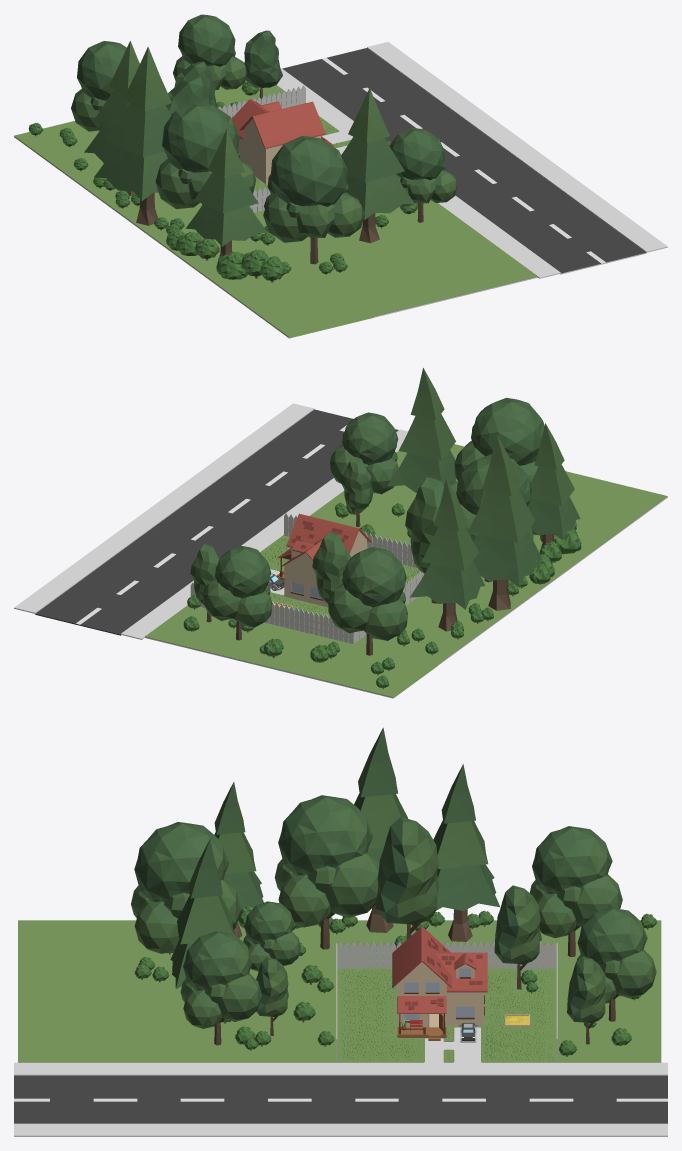
Rendered from house8.glb.
3 views of the same model, one above another, from view 1: azimuth 30°, elevation 25°; view 2: azimuth 150°, elevation 25°; view 3: azimuth 270°, elevation 25° (orthographic). The views are drawn at different scales.
Parts seen in each view (by area): view 1: road, gras, tree-lime.006, tree-spruce.002, tree-lime.002, tree-spruce.003, tree-spruce.005, tree-lime.004, tree-lime, roof, tree-lime.001, tree-spruce (+7 smaller); view 2: road, gras, tree-spruce.002, tree-lime.001, tree-spruce, tree-lime, tree-spruce.003, tree-lime.006, tree-spruce.005, tree-lime.004, Cube.032, tree-beech.002 (+7 smaller); view 3: road, gras, gras.001, tree-lime.002, tree-lime.006, tree-lime.001, tree-lime.004, tree-spruce, tree-beech.002, tree-lime, roof, tree-spruce.002 (+10 smaller).
Boxes of the visible parts, x1=… form: road: x1=277, y1=42, x2=667, y2=278; gras: x1=14, y1=80, x2=537, y2=338; tree-lime.006: x1=263, y1=136, x2=364, y2=264; tree-spruce.002: x1=94, y1=46, x2=171, y2=225; tree-lime.002: x1=155, y1=102, x2=256, y2=209; tree-spruce.003: x1=341, y1=88, x2=415, y2=243; tree-spruce.005: x1=185, y1=129, x2=267, y2=257; tree-lime.004: x1=389, y1=128, x2=457, y2=222; tree-lime: x1=173, y1=14, x2=246, y2=89; roof: x1=232, y1=99, x2=334, y2=148; tree-lime.001: x1=71, y1=41, x2=126, y2=131; tree-spruce: x1=84, y1=41, x2=139, y2=195; road: x1=14, y1=403, x2=407, y2=639; gras: x1=145, y1=444, x2=667, y2=698; tree-spruce.002: x1=468, y1=435, x2=542, y2=610; tree-lime.001: x1=328, y1=547, x2=407, y2=655; tree-spruce: x1=409, y1=478, x2=485, y2=631; tree-lime: x1=203, y1=546, x2=272, y2=640; tree-spruce.003: x1=387, y1=368, x2=456, y2=492; tree-lime.006: x1=454, y1=397, x2=544, y2=502; tree-spruce.005: x1=528, y1=423, x2=580, y2=553; tree-lime.004: x1=330, y1=412, x2=398, y2=506; Cube.032: x1=190, y1=513, x2=424, y2=644; tree-beech.002: x1=405, y1=477, x2=444, y2=603; road: x1=14, y1=1062, x2=667, y2=1136; gras: x1=18, y1=920, x2=661, y2=1062; gras.001: x1=335, y1=968, x2=557, y2=1062; tree-lime.002: x1=274, y1=795, x2=379, y2=949; tree-lime.006: x1=131, y1=822, x2=241, y2=953; tree-lime.001: x1=529, y1=826, x2=622, y2=956; tree-lime.004: x1=180, y1=931, x2=262, y2=1045; tree-spruce: x1=433, y1=764, x2=499, y2=941; tree-beech.002: x1=375, y1=817, x2=439, y2=939; tree-lime: x1=577, y1=907, x2=656, y2=1021; roof: x1=392, y1=926, x2=487, y2=1013; tree-spruce.002: x1=354, y1=727, x2=407, y2=932.
Size of the model in its own units: 43.73 by 19.08 by 52.91.
Materials: 45 (3 with a texture image).
